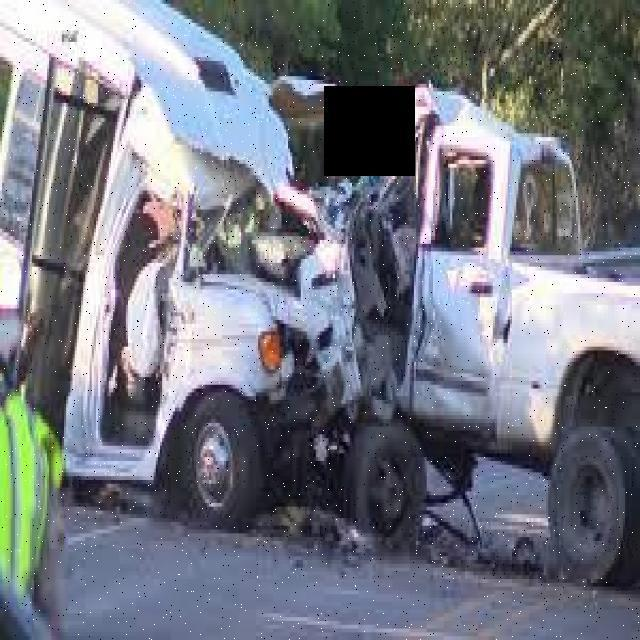multiple_accident: (9, 27, 640, 561)
